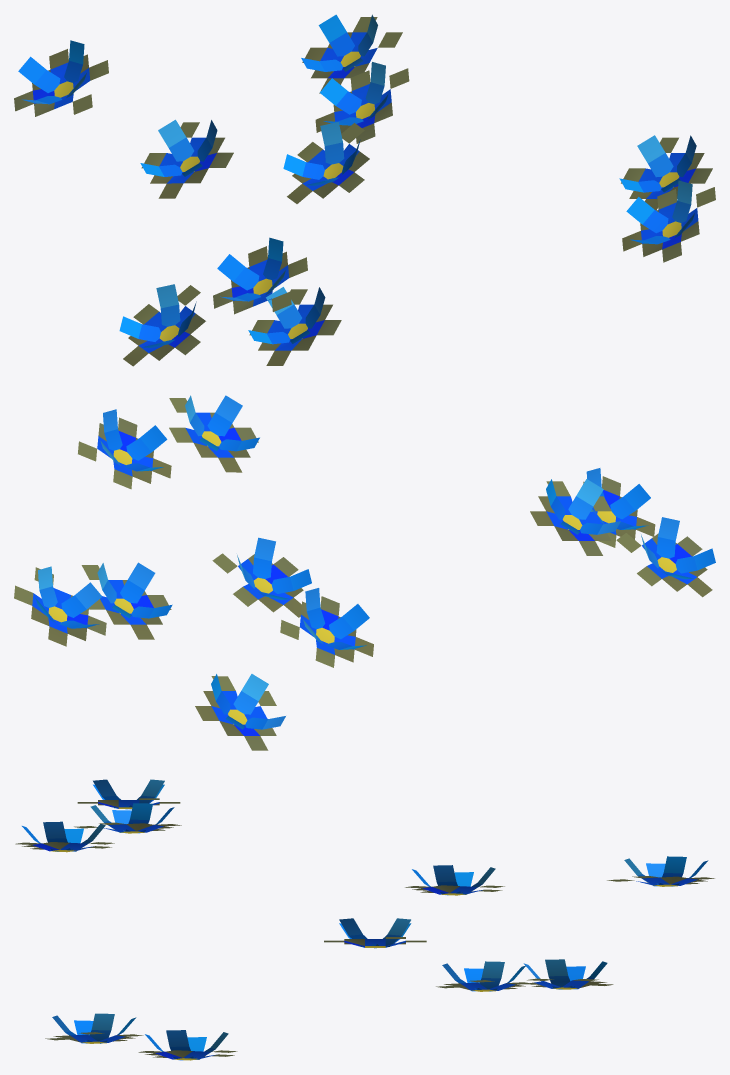
Rendered from ObjMD_Grass_BlueFlower_A.FBX.
The picture shows the model from 3 angles, top to bottom: view 1: azimuth 30°, elevation 25°; view 2: azimuth 150°, elevation 25°; view 3: azimuth 270°, elevation 25°; orthographic projection. The views are drawn at different scales.
Visible parts, largest first — view 1: ObjMD_Grass_BlueFlower_A; view 2: ObjMD_Grass_BlueFlower_A; view 3: ObjMD_Grass_BlueFlower_A.
Part boxes in pixels (x1,y1,x2,y2): ObjMD_Grass_BlueFlower_A: [14, 14, 715, 366]; ObjMD_Grass_BlueFlower_A: [14, 395, 715, 750]; ObjMD_Grass_BlueFlower_A: [15, 779, 714, 1060].
Bounding box in the file's own units: 208 × 27.12 × 214.
